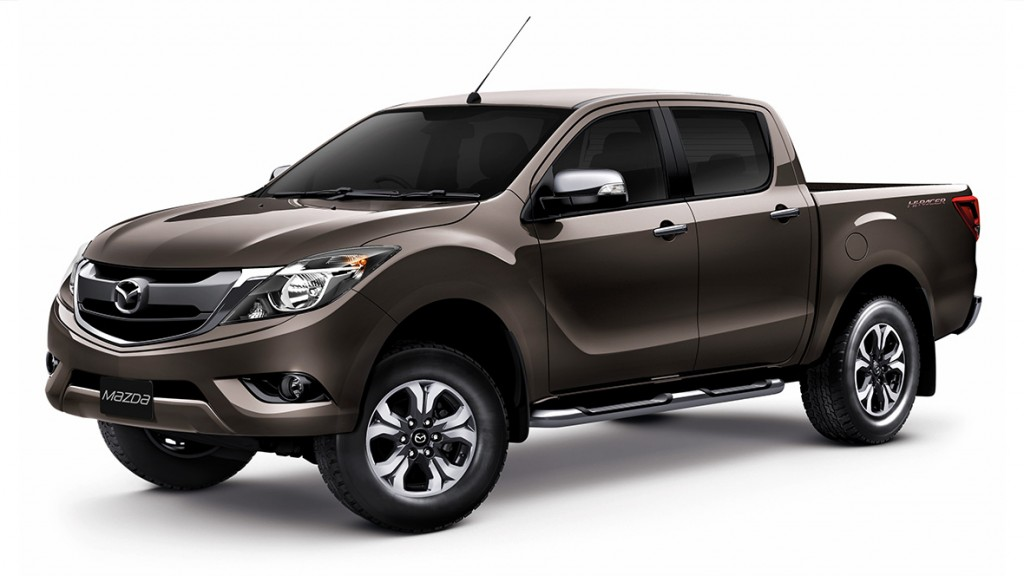pickup: (45, 81, 985, 536)
